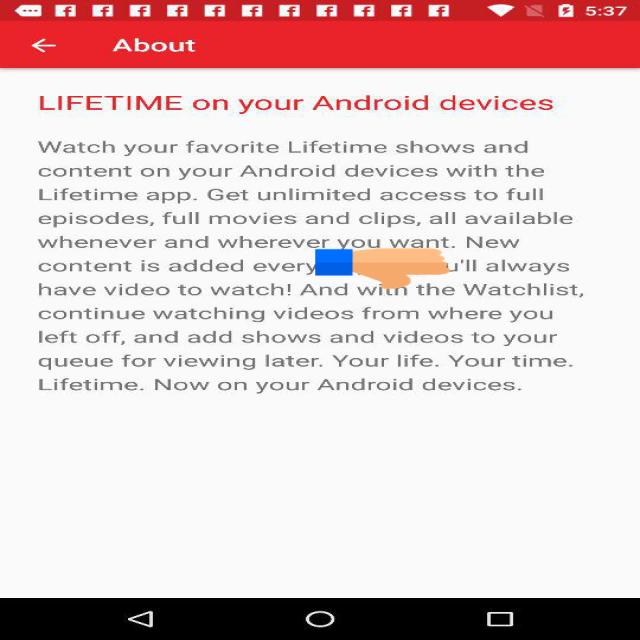obstruction: (316, 247, 450, 290)
